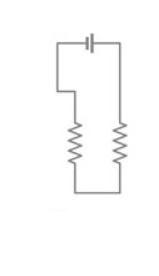resistor: (61, 113, 90, 167), (108, 112, 134, 166)
